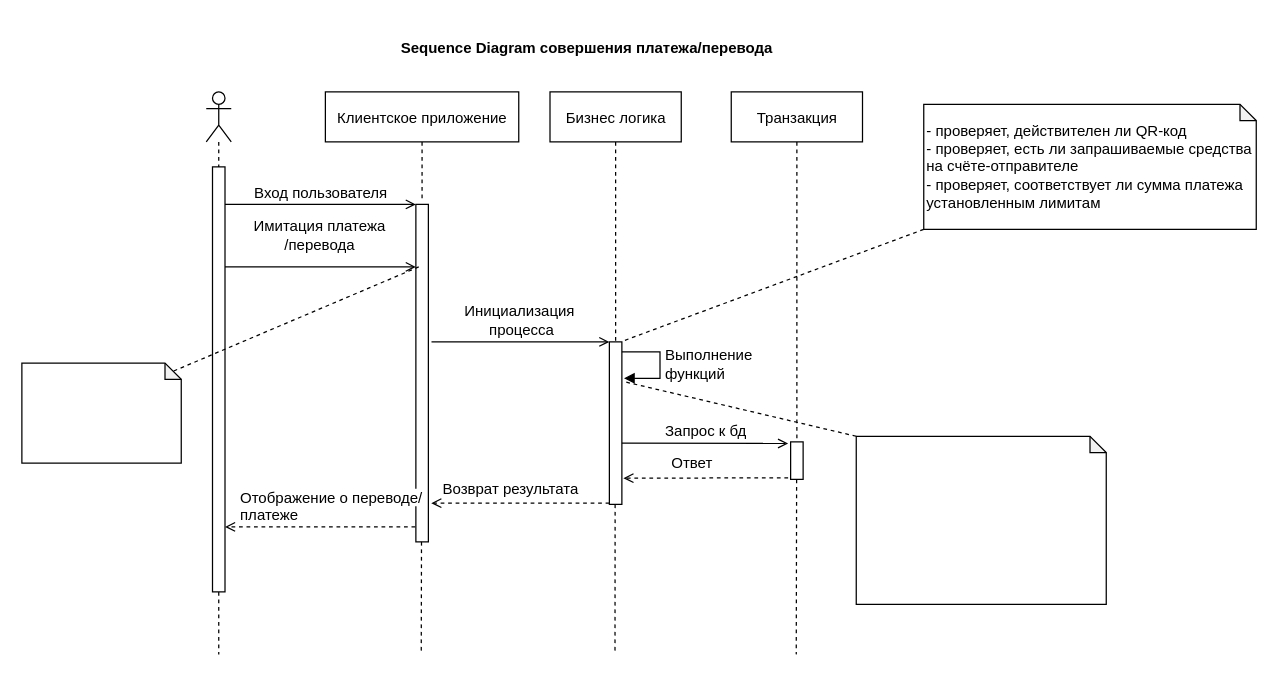
Some shapes in this 1279 by 678 pixel diagram are drawn without their labels. Each missing label, with the box of its shape:
User сканирует QR получателя или вводит номер счёта получателя: (21, 362, 181, 463)
Проверяет данные, создает запись о новой транзакции в базе данных: (855, 435, 1106, 604)
